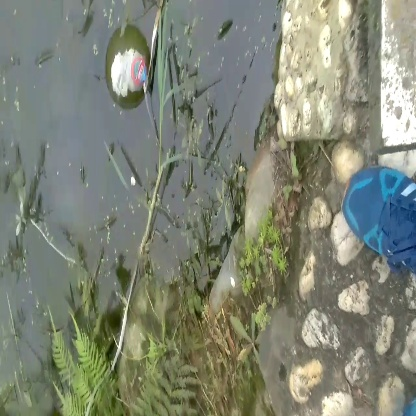plastic-bag: (107, 44, 161, 109)
